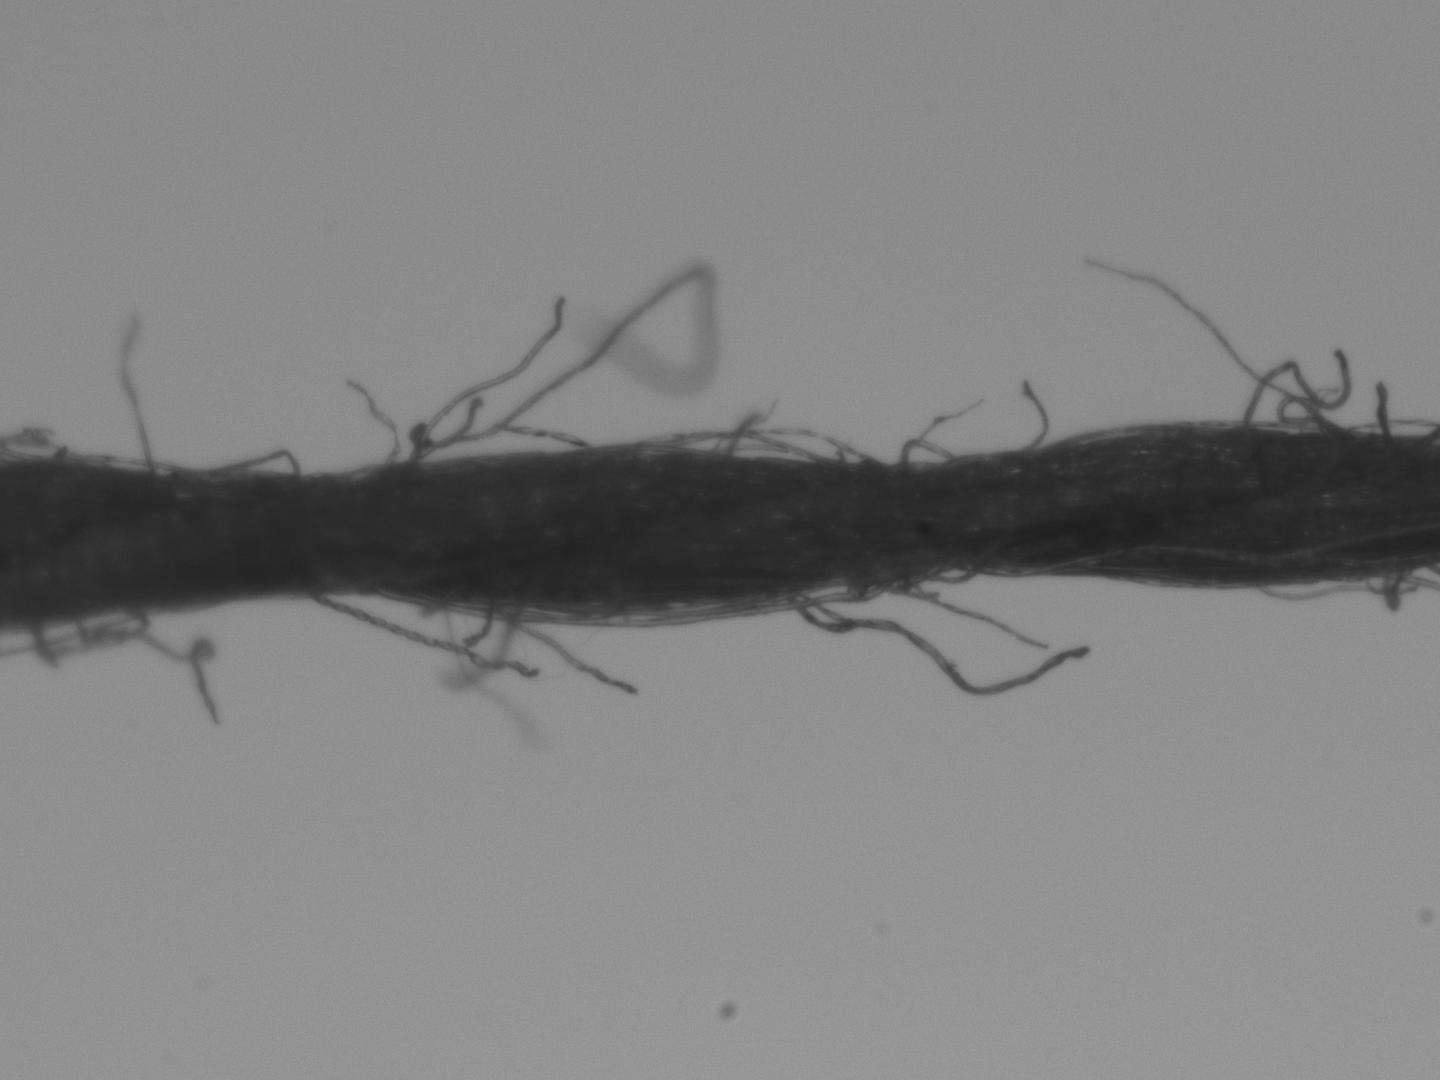loop_fiber: (441, 576, 893, 627), (651, 425, 859, 462), (68, 608, 151, 642), (212, 447, 296, 478), (1349, 414, 1434, 439), (896, 438, 956, 469), (916, 560, 982, 587)
protruding_fiber: (790, 589, 1087, 694), (307, 591, 539, 682), (1242, 348, 1349, 427), (1019, 382, 1048, 452), (1375, 381, 1394, 440)
